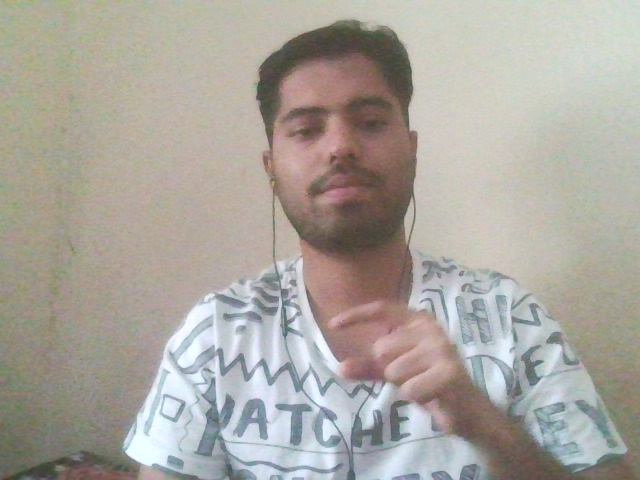No: (292, 280, 515, 440)
